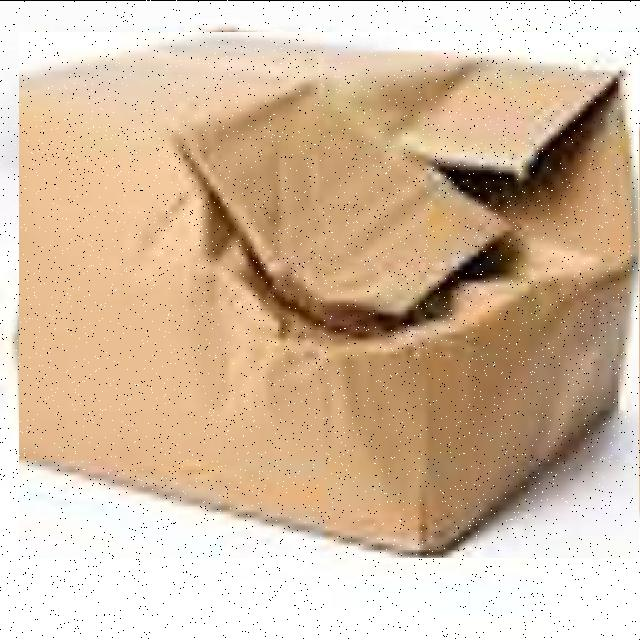defect: (19, 31, 638, 557)
